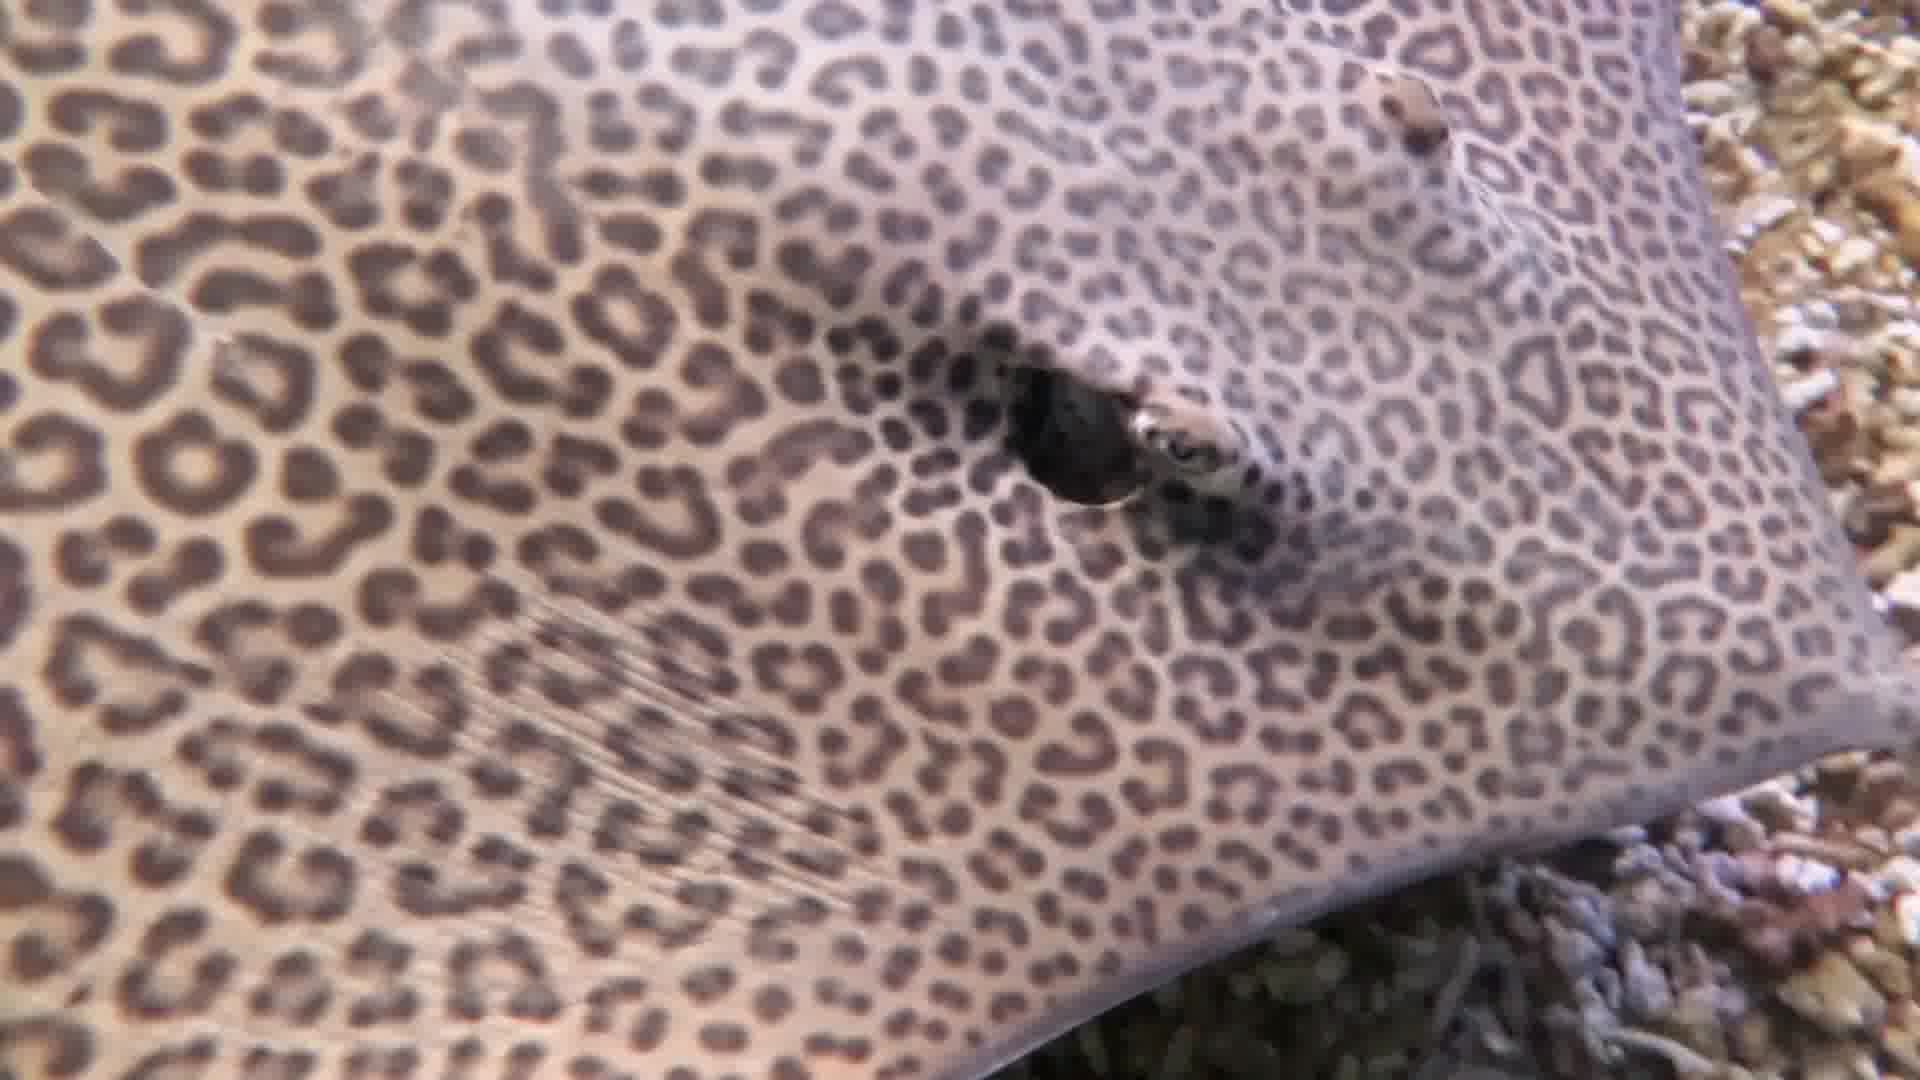Himantura uarnak: (1, 1, 1920, 1076)
